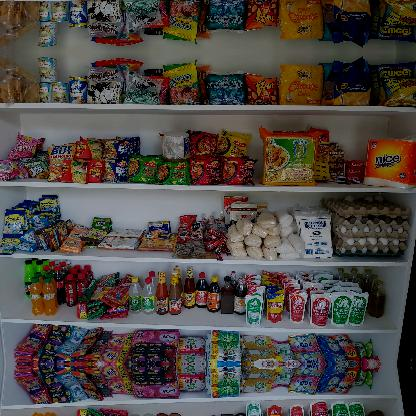Lady-s-Choice: (162, 132, 190, 162)
